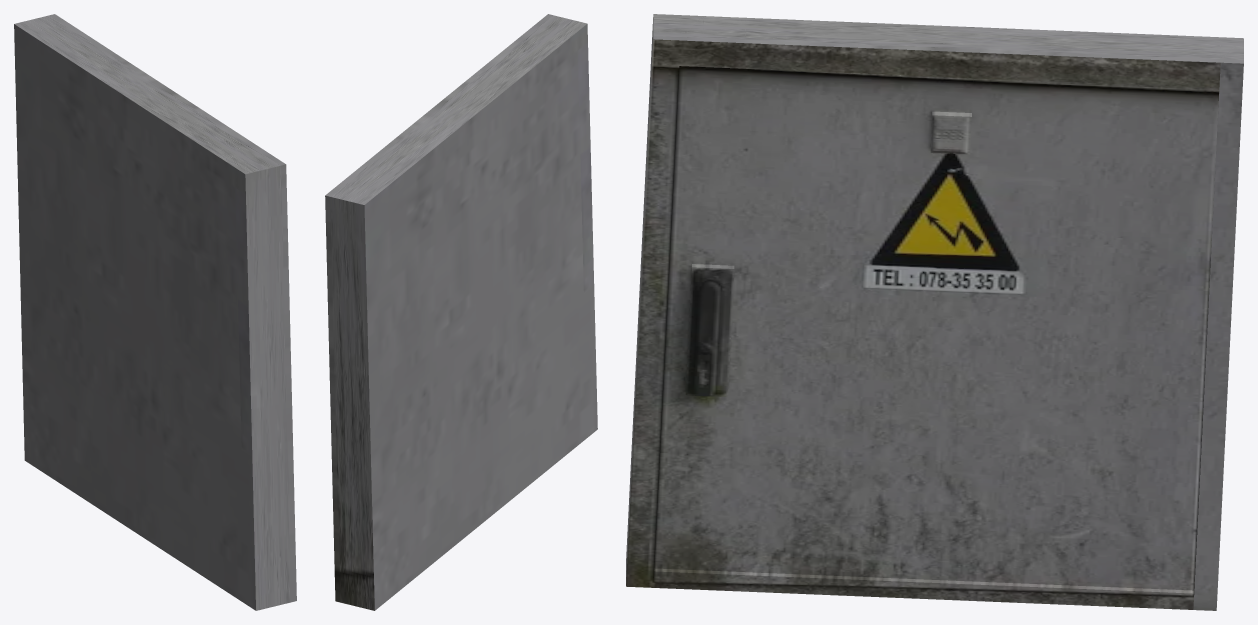
Rendered from sf-electric-box-4eeea3.glb.
3 renders of one model, left to right at view 1: azimuth 30°, elevation 25°; view 2: azimuth 150°, elevation 25°; view 3: azimuth 270°, elevation 25°, orthographic. The views are drawn at different scales.
Visible parts, largest first — view 1: Object_4; view 2: Object_4; view 3: Object_4.
Part boxes in pixels (bbox=[...]): Object_4: bbox=[14, 14, 296, 610]; Object_4: bbox=[325, 14, 597, 610]; Object_4: bbox=[626, 14, 1243, 610].
Bounding box in the file's own units: 0.1869 × 1.9 × 1.86.
Materials: 1 (1 with a texture image).
